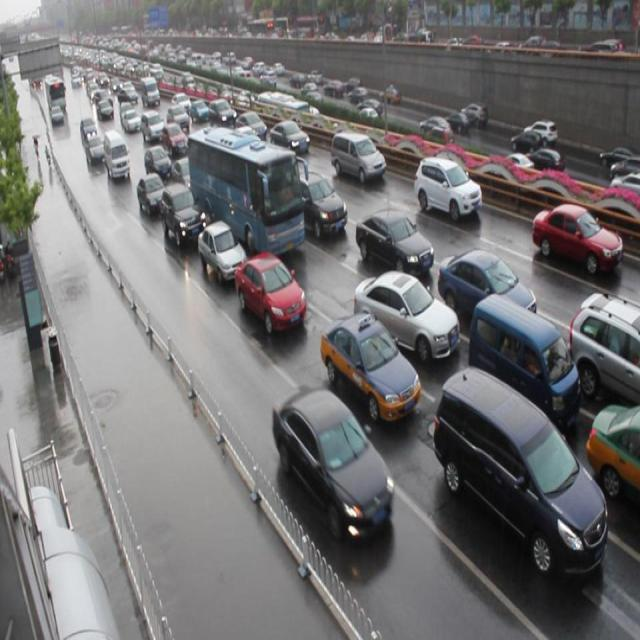car: (272, 383, 393, 544), (320, 318, 420, 428), (352, 276, 459, 368), (566, 297, 640, 408), (437, 253, 535, 335), (530, 202, 621, 274), (584, 408, 640, 515), (233, 255, 305, 335), (354, 214, 433, 280), (414, 154, 482, 218), (294, 176, 346, 242), (196, 224, 247, 284), (160, 186, 206, 250), (270, 118, 309, 156), (137, 173, 167, 216), (170, 161, 197, 197), (236, 110, 267, 141), (144, 149, 172, 183)
truck: (434, 370, 606, 582), (466, 297, 577, 432), (330, 129, 386, 182)
van: (190, 130, 304, 263)
